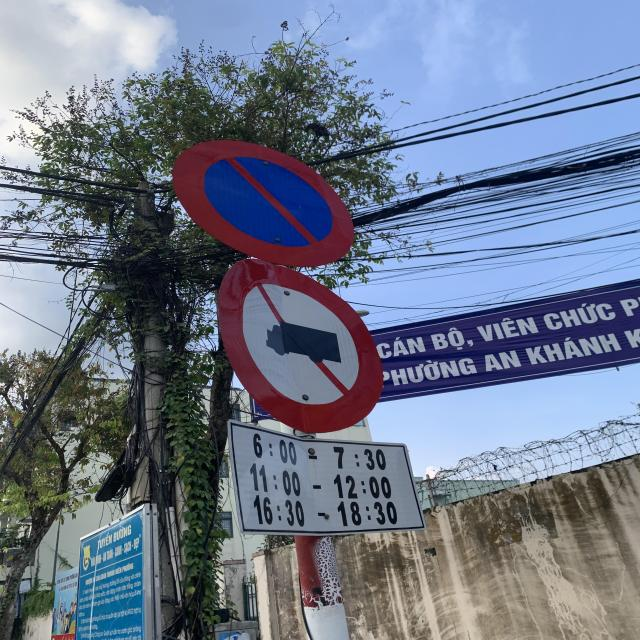Cam_Dau_Xe: (170, 139, 357, 269)
Cam_Xe_Tai: (220, 257, 387, 432)
